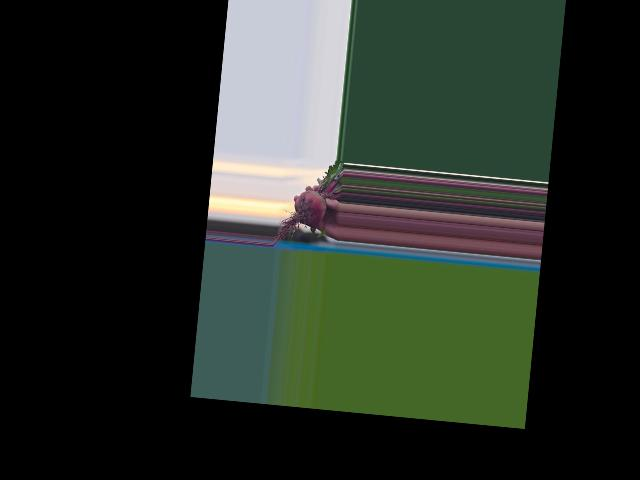beet: (272, 155, 344, 251)
